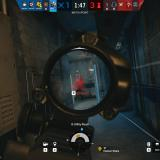Character: (74, 85, 85, 102)
Friend_label: (72, 70, 82, 75)
Head: (78, 86, 80, 89)
